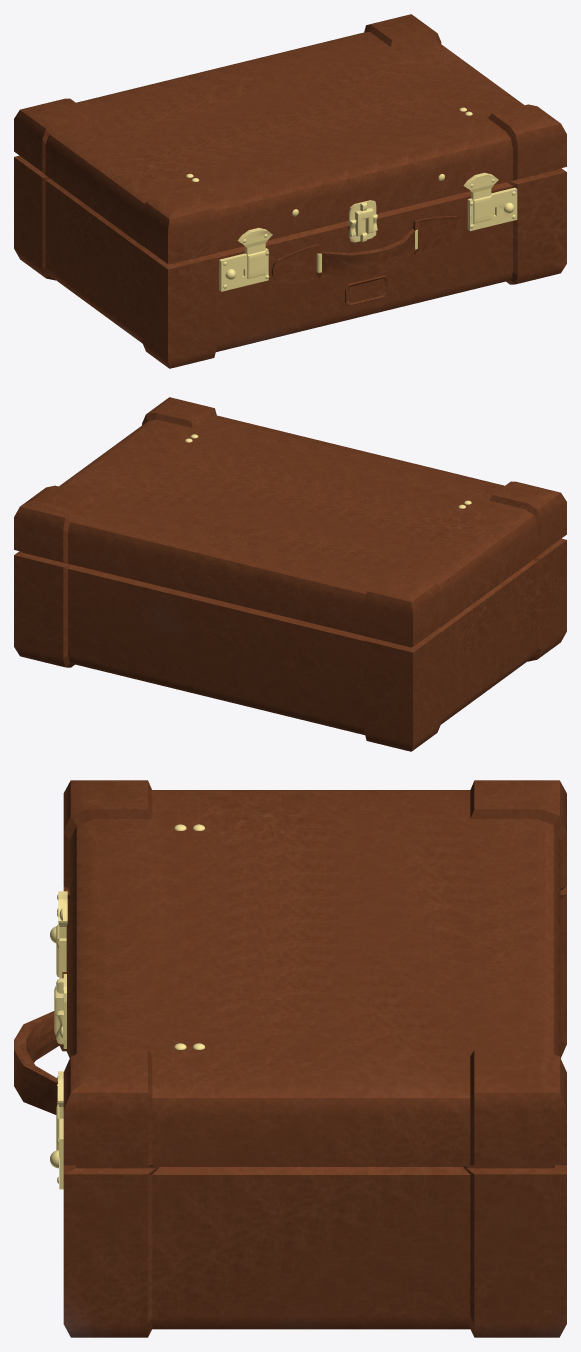
Rendered from Suitcase.fbx.
3 renders of one model, top to bottom at view 1: azimuth 30°, elevation 25°; view 2: azimuth 150°, elevation 25°; view 3: azimuth 270°, elevation 25°, orthographic. The views are drawn at different scales.
Visible parts, largest first — view 1: Suitcase:Suitcase; view 2: Suitcase:Suitcase; view 3: Suitcase:Suitcase.
Part boxes in pixels (x1=…): Suitcase:Suitcase: x1=14, y1=14, x2=566, y2=368; Suitcase:Suitcase: x1=14, y1=397, x2=566, y2=751; Suitcase:Suitcase: x1=14, y1=780, x2=566, y2=1337.
Bounding box in the file's own units: 60.73 × 23 × 44.58.
